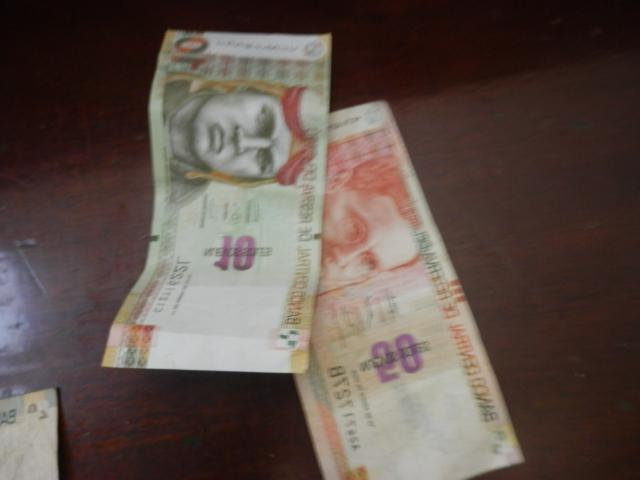B10: (108, 31, 328, 370)
B50: (326, 99, 526, 480)
